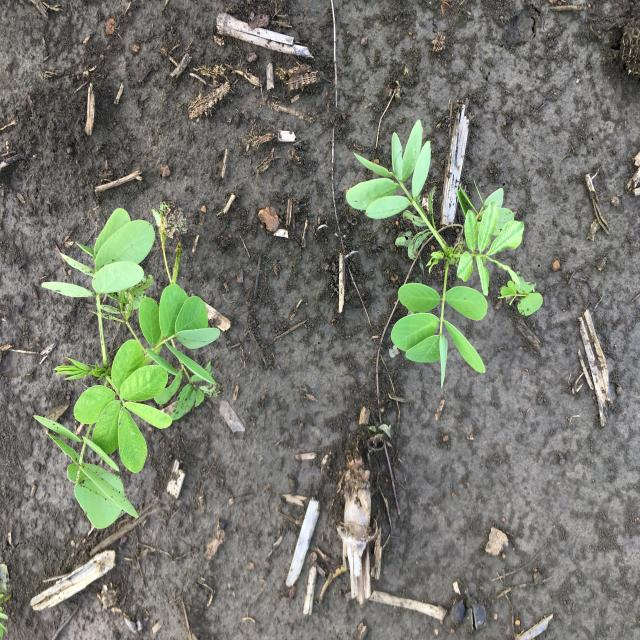Sicklepod: (31, 205, 222, 530), (343, 117, 545, 390)
